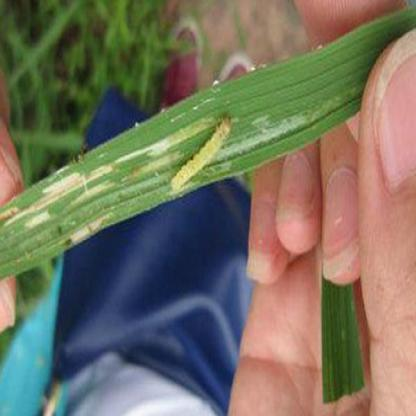leaf-folder: (166, 96, 236, 212)
